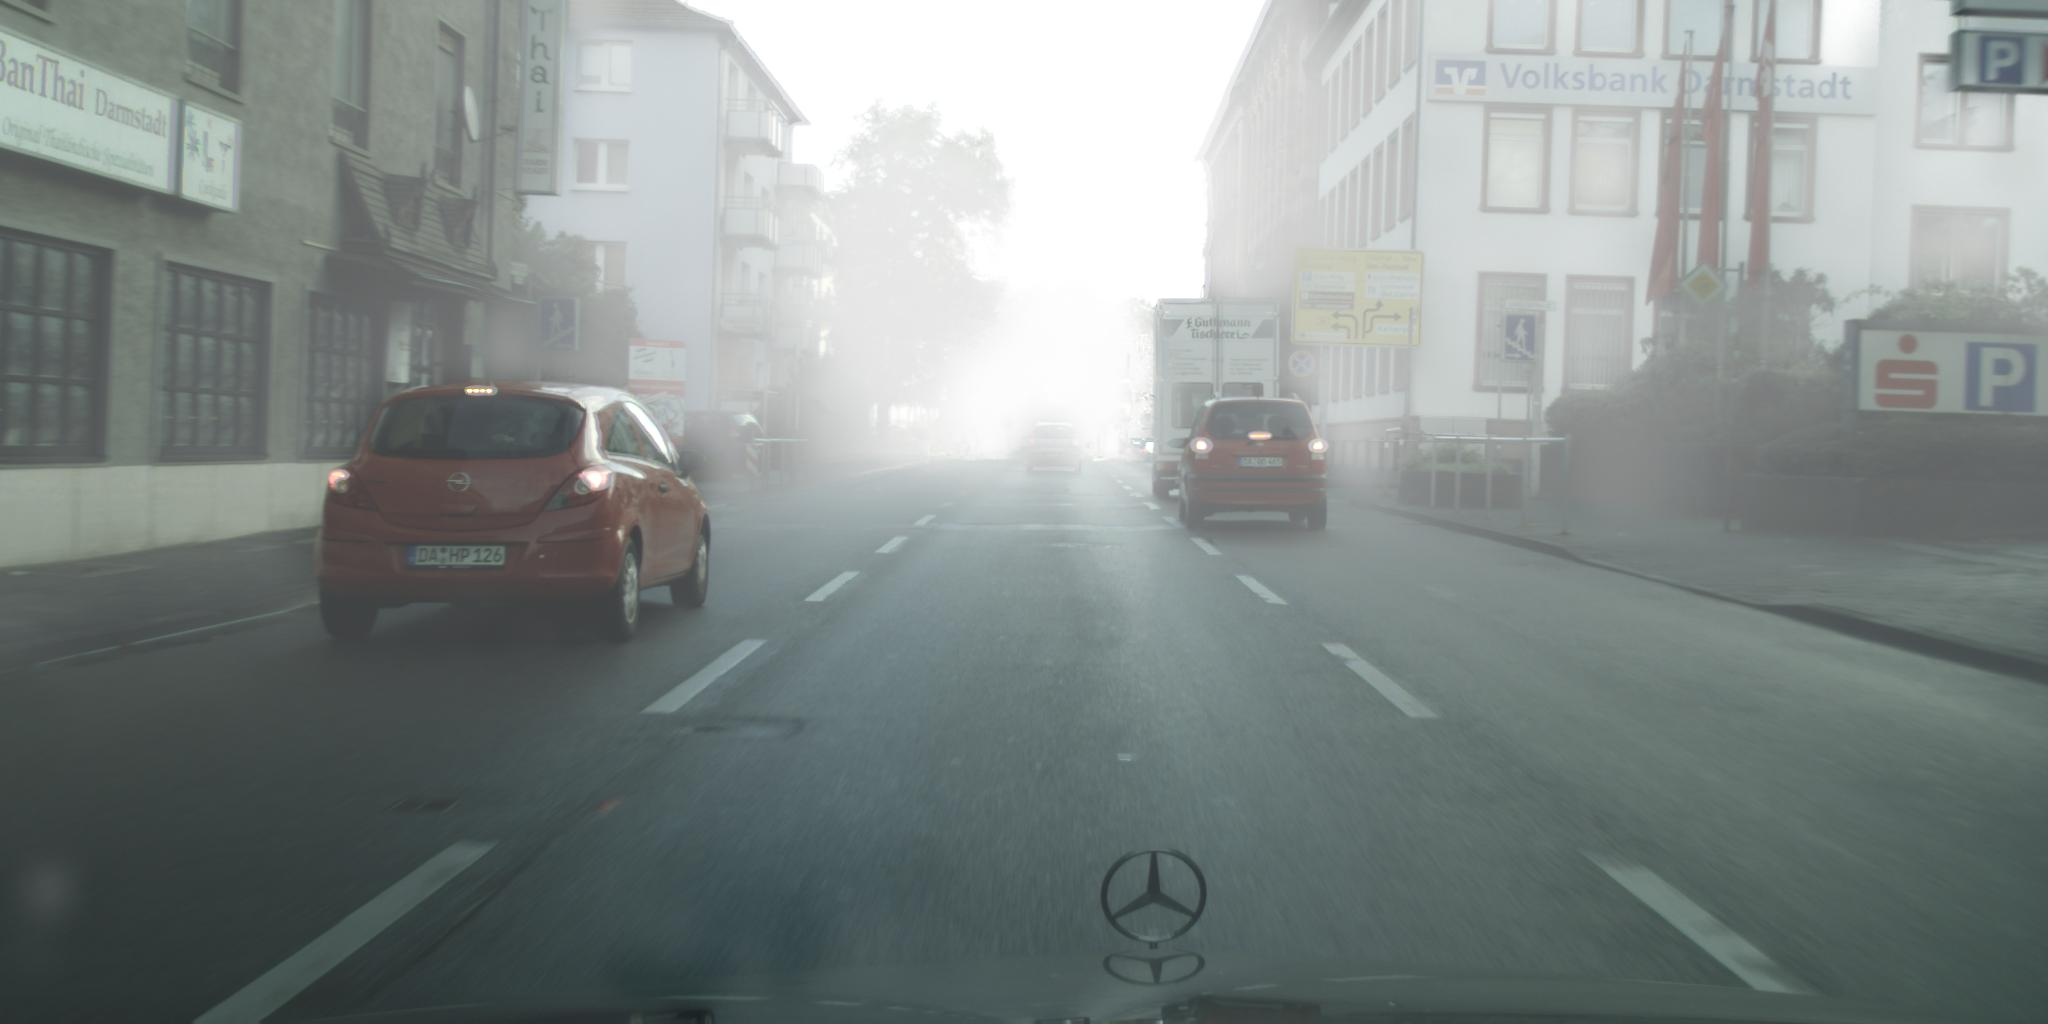car: (315, 380, 712, 644), (1169, 393, 1330, 532), (667, 411, 769, 473), (1023, 421, 1085, 474), (1126, 440, 1149, 462), (1006, 444, 1036, 461)
truck: (1143, 300, 1287, 500)
